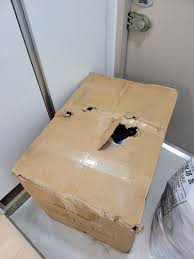damaged package: (86, 106, 162, 151), (102, 204, 148, 240), (70, 100, 109, 116), (58, 108, 75, 122)
